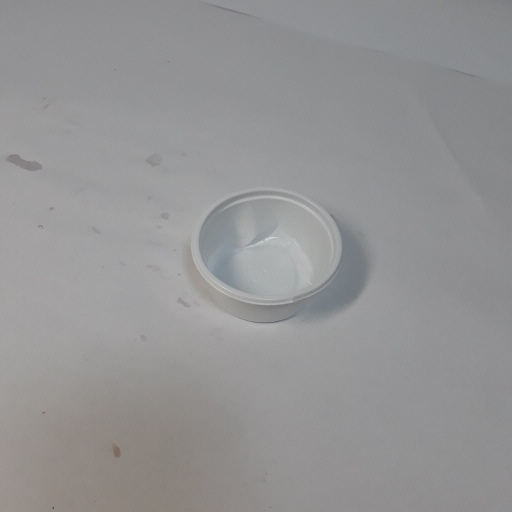Plastic_5: (183, 186, 348, 330)
